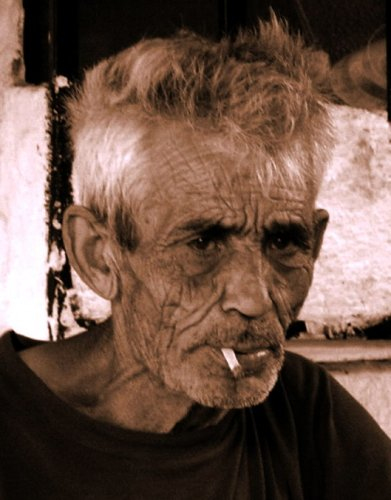cigarette: (222, 343, 244, 379)
